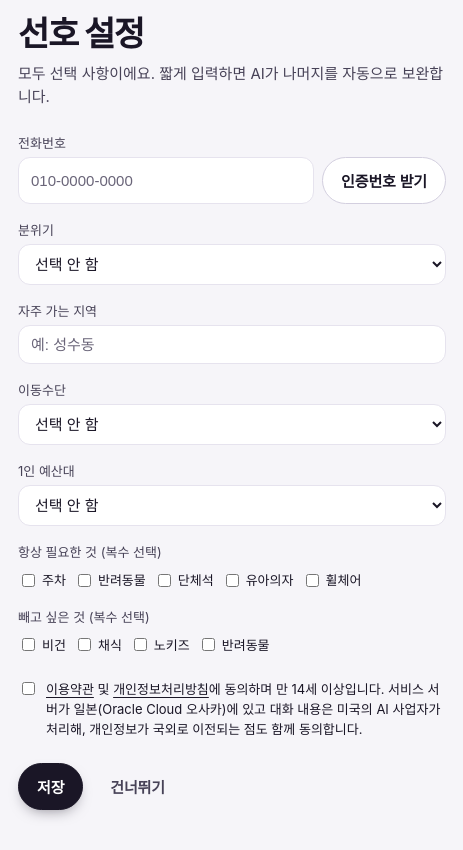
온보딩 › 잘못된 번호는 가입 요청을 보내지 않는다
Type "123" into the field with placeholder "010-0000-0000". click: (166, 180)
box: [18,157,314,204]
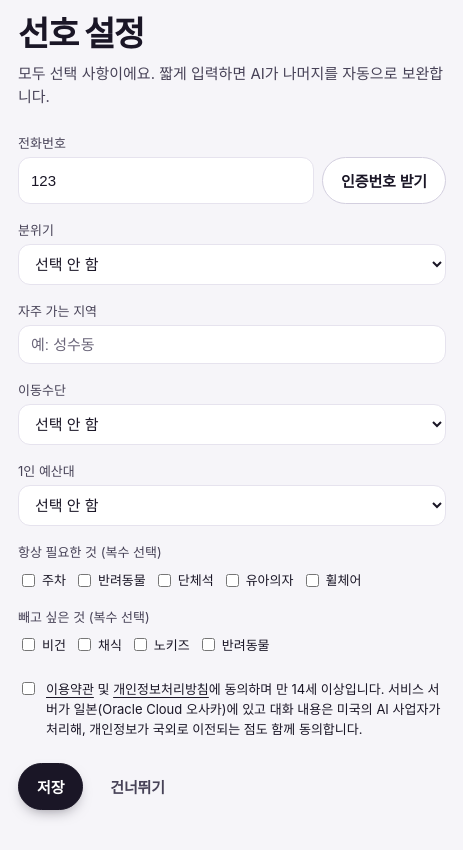
Click the button "저장". click: (51, 787)
box: [18,763,83,810]
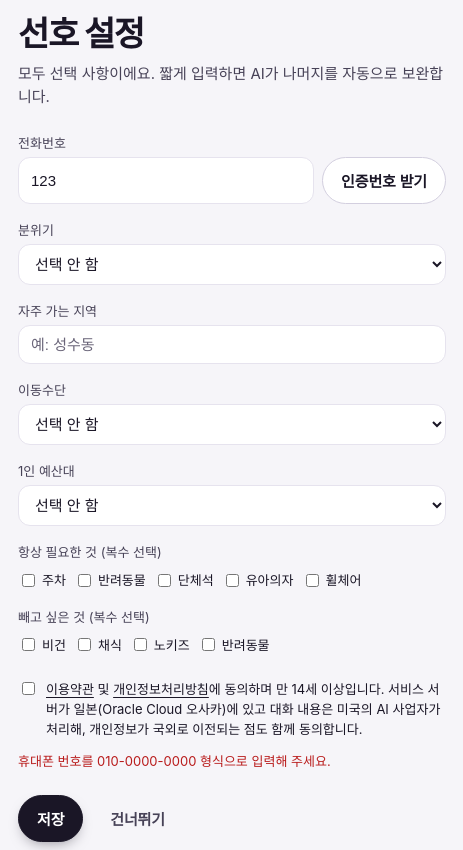
Expected: the message "휴대폰 번호를 010-0000-0000 형식으로 입력해 주세요." is shown, [18,753,331,769]
